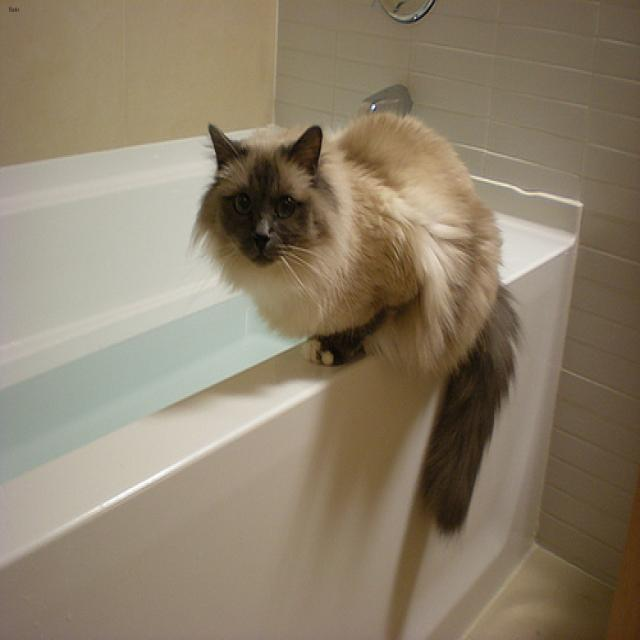Birman: (206, 121, 321, 265)
